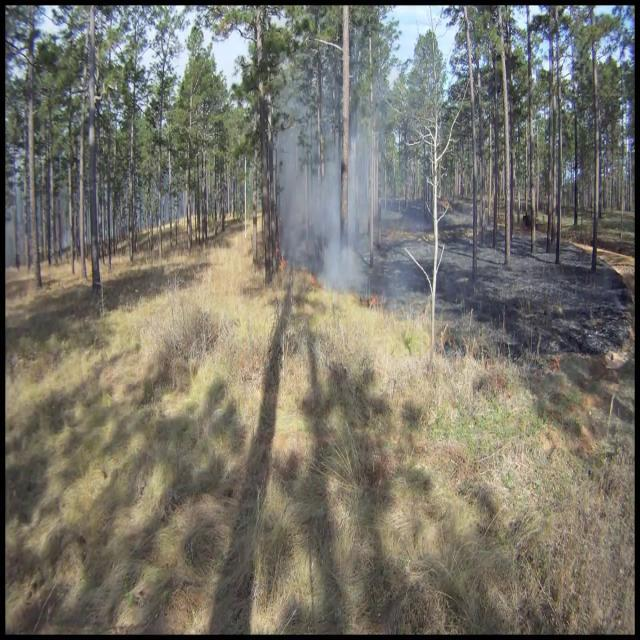Smoke: (276, 110, 370, 302)
